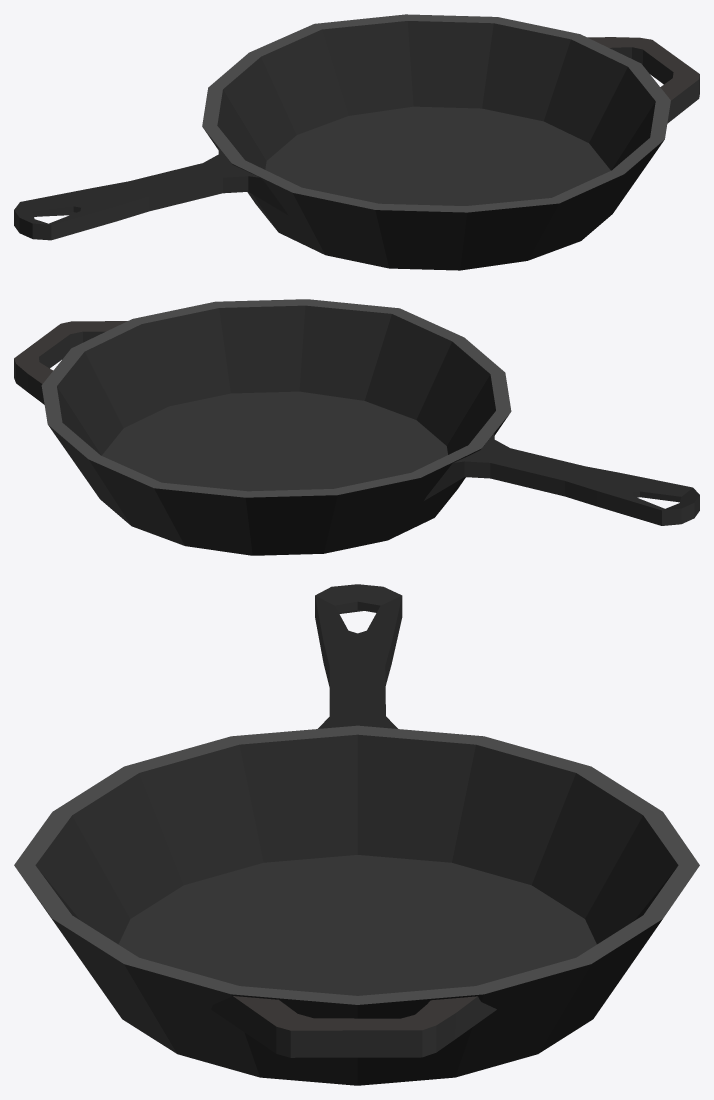
File: WorldItem_CastIronSkillet.fbx
The picture shows the model from 3 angles, top to bottom: view 1: azimuth 30°, elevation 25°; view 2: azimuth 150°, elevation 25°; view 3: azimuth 270°, elevation 25°; orthographic projection. The views are drawn at different scales.
Parts seen in each view (by area): view 1: ZomboidCastIronSkillet; view 2: ZomboidCastIronSkillet; view 3: ZomboidCastIronSkillet.
Part boxes in pixels (x1,y1,x2,y2): ZomboidCastIronSkillet: (14,14,699,270); ZomboidCastIronSkillet: (14,299,699,555); ZomboidCastIronSkillet: (14,584,699,1085).
Bounding box in the file's own units: 0.3689 × 0.0433 × 0.2388.
